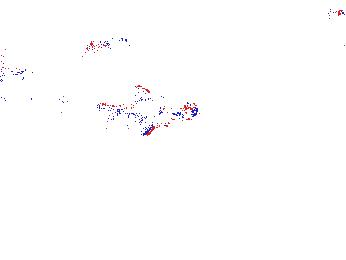X-ray fish: (327, 159, 346, 186)
red belly glassfish: (87, 37, 129, 55), (317, 6, 346, 23), (1, 63, 24, 79)
redtail glassfish: (94, 97, 203, 136), (8, 83, 76, 104), (244, 95, 282, 122)
